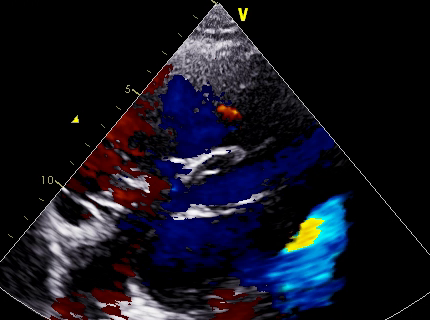TR: (120, 148, 202, 243)
